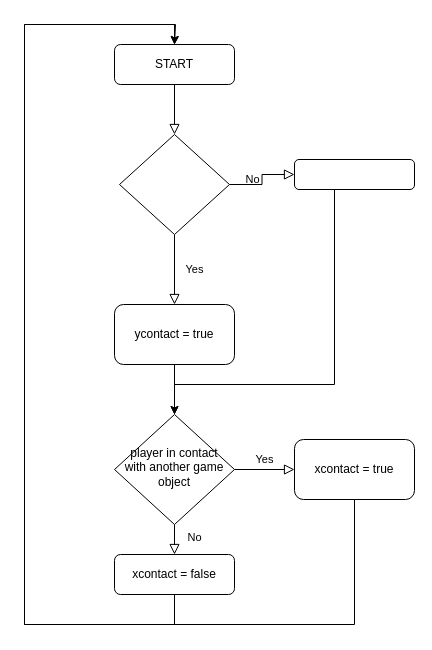
The diagram is 432 pixels wide and 650 high, and some of its shapes have lost their labels. The shapes that lost their labels are listed below. From the top down, each one's centre as x and y in pixels, then its label:
At (174,184): "Is player in contact with the floor".
At (354,174): "ycontact = false".
